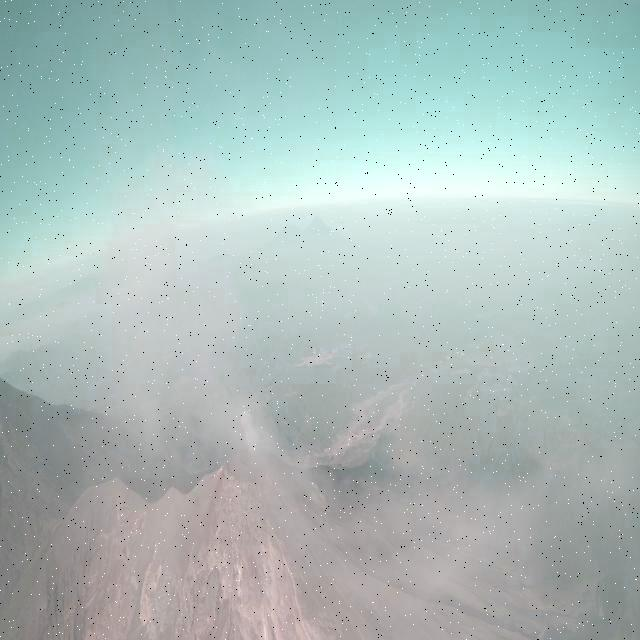Plume: (238, 407, 258, 453)
Summit: (154, 449, 321, 550)
